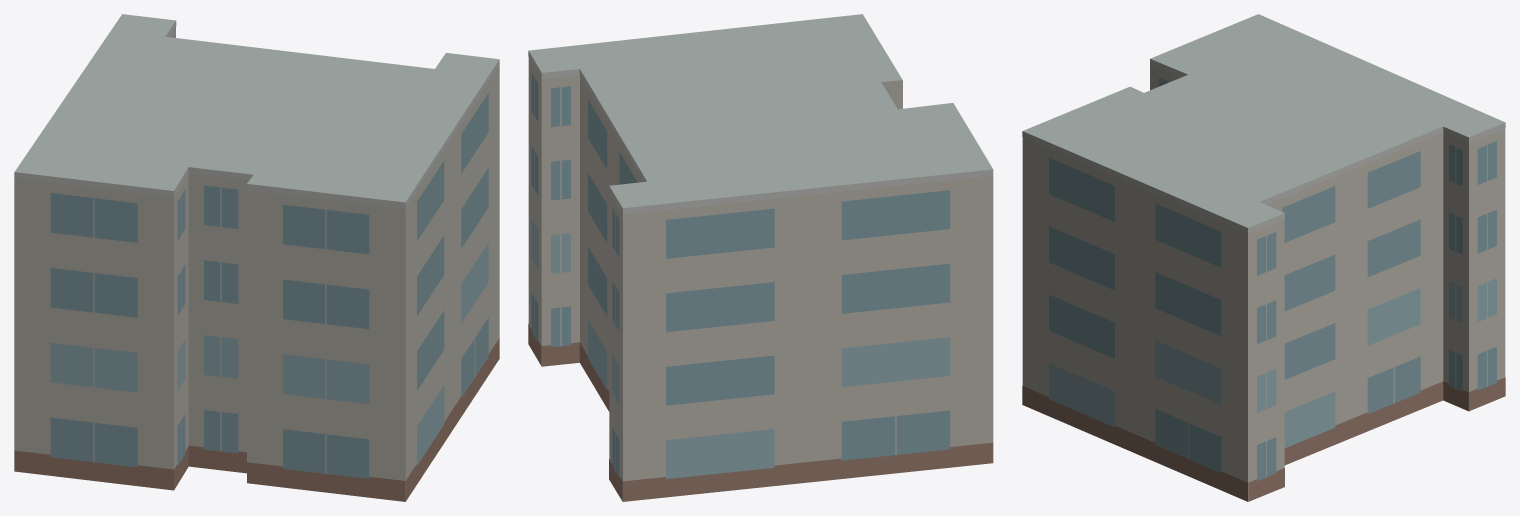
File: survey-upis-32597808.glb
3 views of the same model, side by side, from view 1: azimuth 30°, elevation 25°; view 2: azimuth 150°, elevation 25°; view 3: azimuth 270°, elevation 25° (orthographic). The views are drawn at different scales.
Visible parts, largest first — view 1: survey-upis-32597808.tmp; view 2: survey-upis-32597808.tmp; view 3: survey-upis-32597808.tmp.
Part boxes in pixels (x1=…): survey-upis-32597808.tmp: x1=14, y1=14, x2=499, y2=501; survey-upis-32597808.tmp: x1=528, y1=14, x2=993, y2=501; survey-upis-32597808.tmp: x1=1022, y1=14, x2=1505, y2=501.
Size of the model in its own units: 19.28 by 11.5 by 18.38.
